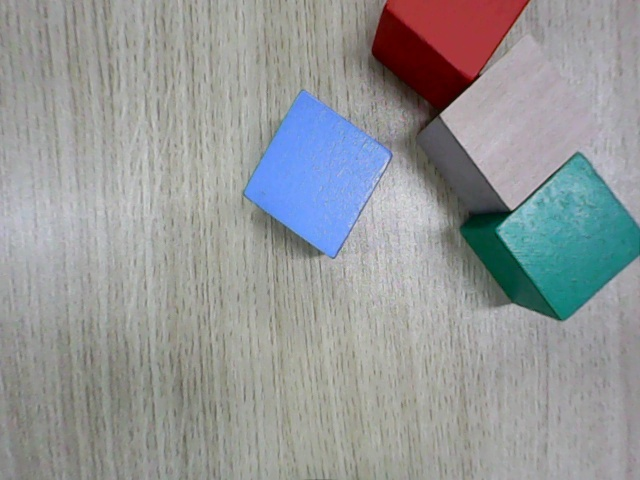upside of big cube: (439, 34, 601, 215), (241, 90, 394, 260), (494, 153, 639, 322), (382, 0, 533, 82)
